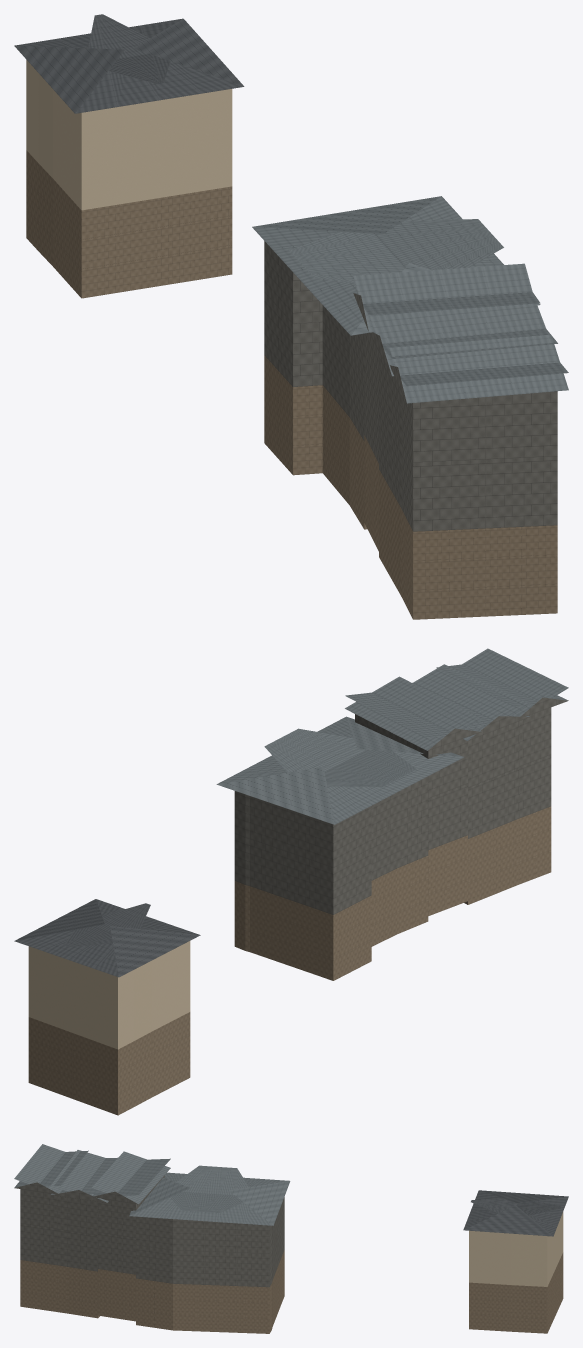
File: bld_c-14_27_482.gltf
3 renders of one model, top to bottom at view 1: azimuth 30°, elevation 25°; view 2: azimuth 150°, elevation 25°; view 3: azimuth 270°, elevation 25°, orthographic. The views are drawn at different scales.
Parts seen in each view (by area): view 1: bld_c-14_27_482; view 2: bld_c-14_27_482; view 3: bld_c-14_27_482.
Boxes of the visible parts, x1=… form: bld_c-14_27_482: x1=14, y1=14, x2=568, y2=619; bld_c-14_27_482: x1=14, y1=648, x2=568, y2=1115; bld_c-14_27_482: x1=14, y1=1144, x2=568, y2=1333.
Size of the model in its own units: 15.68 by 14.5 by 54.95.
6 materials, 6 textured.
